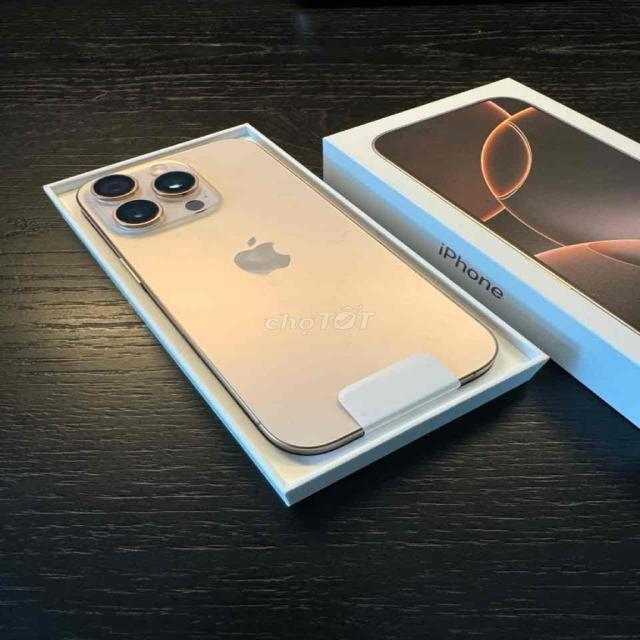gen_16: (76, 138, 498, 454)
